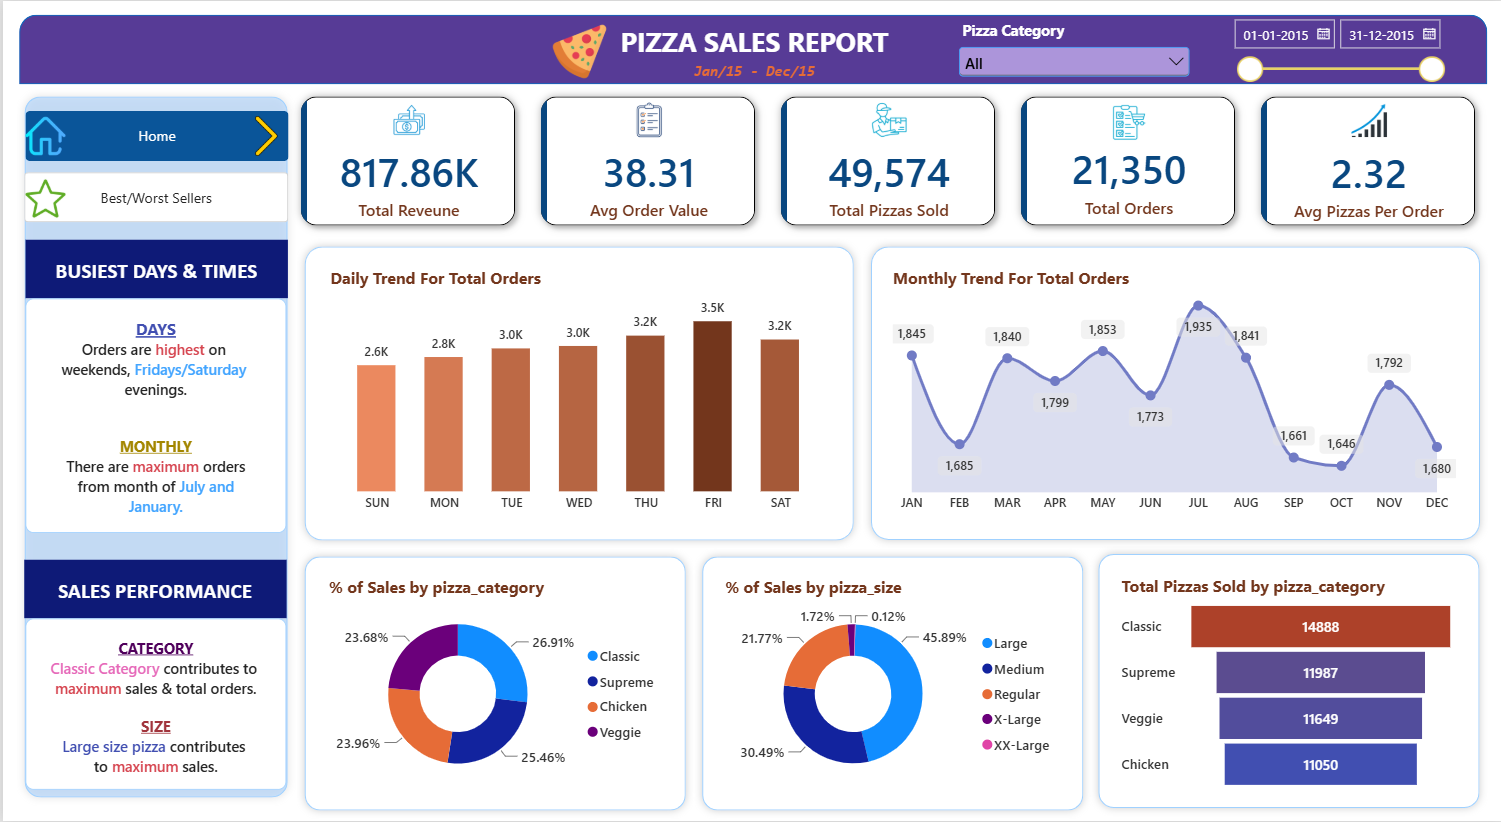

This screenshot's page, from the dashboard's own definition file:
{"tool":"powerbi","page":{"name":"Home","canvas":[1500,820],"ordinal":0},"visuals":[{"type":"cardVisual","fields":{"Data":["pizza_sales.Total Reveune","pizza_sales.Avg Order Value","pizza_sales.Total Pizzas Sold","pizza_sales.Total Orders","pizza_sales.Avg Pizzas Per Order"]},"box":[284.4,82.8,1200,155],"z":0},{"type":"shape","box":[15.6,14.1,1468.1,69.4],"z":1000},{"type":"textbox","box":[609.4,21.9,282.8,53.1],"z":2000},{"type":"textbox","box":[664.1,59.4,175,31.2],"z":3000},{"type":"image","box":[543.8,21.9,65.6,56.2],"z":4000},{"type":"shape","box":[293.8,237.5,565,310],"z":5000},{"type":"columnChart","title":"Daily Trend For Total Orders","fields":{"Category":["pizza_sales.Order Day"],"Y":["pizza_sales.Total Orders"]},"box":[310.9,251.6,529.7,279.7],"z":6000},{"type":"shape","box":[859.4,237.5,625,309.4],"z":7000},{"type":"areaChart","title":"Monthly Trend For Total Orders","fields":{"Category":["pizza_sales.Order Month"],"Y":["pizza_sales.Total Orders"]},"box":[873.4,251.6,595.3,279.7],"z":8000},{"type":"shape","box":[293.8,546.9,397,270],"z":9000},{"type":"shape","box":[1087.5,545.3,397,270],"z":10000},{"type":"shape","box":[690.6,546.9,397,270],"z":11000},{"type":"donutChart","title":"% of Sales by pizza_category","fields":{"Category":["pizza_sales.pizza_category"],"Y":["pizza_sales.Total Reveune"]},"box":[309.4,559.4,365.6,245.3],"z":12000},{"type":"donutChart","title":"% of Sales by pizza_size","fields":{"Category":["pizza_sales.pizza_size"],"Y":["pizza_sales.Total Reveune"]},"box":[706.2,559.4,365.6,245.3],"z":13000},{"type":"funnel","fields":{"Category":["pizza_sales.pizza_category"],"Y":["pizza_sales.Total Pizzas Sold"]},"box":[1102.9,558.6,365.7,245.7],"z":14000},{"type":"shape","box":[14.1,87.3,278.9,716.9],"z":15000},{"type":"textbox","box":[22.9,238.6,262,58.6],"z":16000},{"type":"textbox","box":[22.9,297.1,261,234.3],"z":17000},{"type":"textbox","box":[21.4,558.6,262,58],"z":18000},{"type":"textbox","box":[22.9,617.1,261,171.4],"z":19000},{"type":"slicer","fields":{"Values":["pizza_sales.pizza_category"]},"box":[951.4,18.6,240,61.4],"z":20000},{"type":"slicer","fields":{"Values":["pizza_sales.order_date"]},"box":[1224.3,14.3,221.4,72.9],"z":21000},{"type":"pageNavigator","box":[22.5,109.9,263.4,50.7],"z":22000},{"type":"pageNavigator","box":[21.1,171.8,264,50.7],"z":23000},{"type":"image","box":[242.3,115.5,40.8,40],"z":24000},{"type":"image","box":[22.5,115.5,40,40],"z":25000},{"type":"image","box":[22.5,177.5,40,40],"z":26000}]}

Visuals, with their boxes in screenshot pixels (x1, y1, x2, y2), scaled from the page's 1500x820 canvas onto the 1501x822 screenshot:
cardVisual - pizza_sales.Total Reveune x pizza_sales.Avg Order Value: x1=285, y1=83, x2=1485, y2=238
shape: x1=16, y1=14, x2=1485, y2=84
textbox: x1=610, y1=22, x2=893, y2=75
textbox: x1=665, y1=60, x2=840, y2=91
image: x1=544, y1=22, x2=610, y2=78
shape: x1=294, y1=238, x2=859, y2=549
"Daily Trend For Total Orders" columnChart: x1=311, y1=252, x2=841, y2=533
shape: x1=860, y1=238, x2=1485, y2=548
"Monthly Trend For Total Orders" areaChart: x1=874, y1=252, x2=1470, y2=533
shape: x1=294, y1=548, x2=691, y2=819
shape: x1=1088, y1=547, x2=1485, y2=817
shape: x1=691, y1=548, x2=1088, y2=819
"% of Sales by pizza_category" donutChart: x1=310, y1=561, x2=675, y2=807
"% of Sales by pizza_size" donutChart: x1=707, y1=561, x2=1073, y2=807
funnel - pizza_sales.pizza_category x pizza_sales.Total Pizzas Sold: x1=1104, y1=560, x2=1470, y2=806
shape: x1=14, y1=88, x2=293, y2=806
textbox: x1=23, y1=239, x2=285, y2=298
textbox: x1=23, y1=298, x2=284, y2=533
textbox: x1=21, y1=560, x2=284, y2=618
textbox: x1=23, y1=619, x2=284, y2=790
slicer - pizza_sales.pizza_category: x1=952, y1=19, x2=1192, y2=80
slicer - pizza_sales.order_date: x1=1225, y1=14, x2=1447, y2=87
pageNavigator: x1=23, y1=110, x2=286, y2=161
pageNavigator: x1=21, y1=172, x2=285, y2=223
image: x1=242, y1=116, x2=283, y2=156
image: x1=23, y1=116, x2=63, y2=156
image: x1=23, y1=178, x2=63, y2=218
